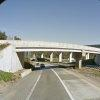Bridge: (10, 32, 91, 69)
